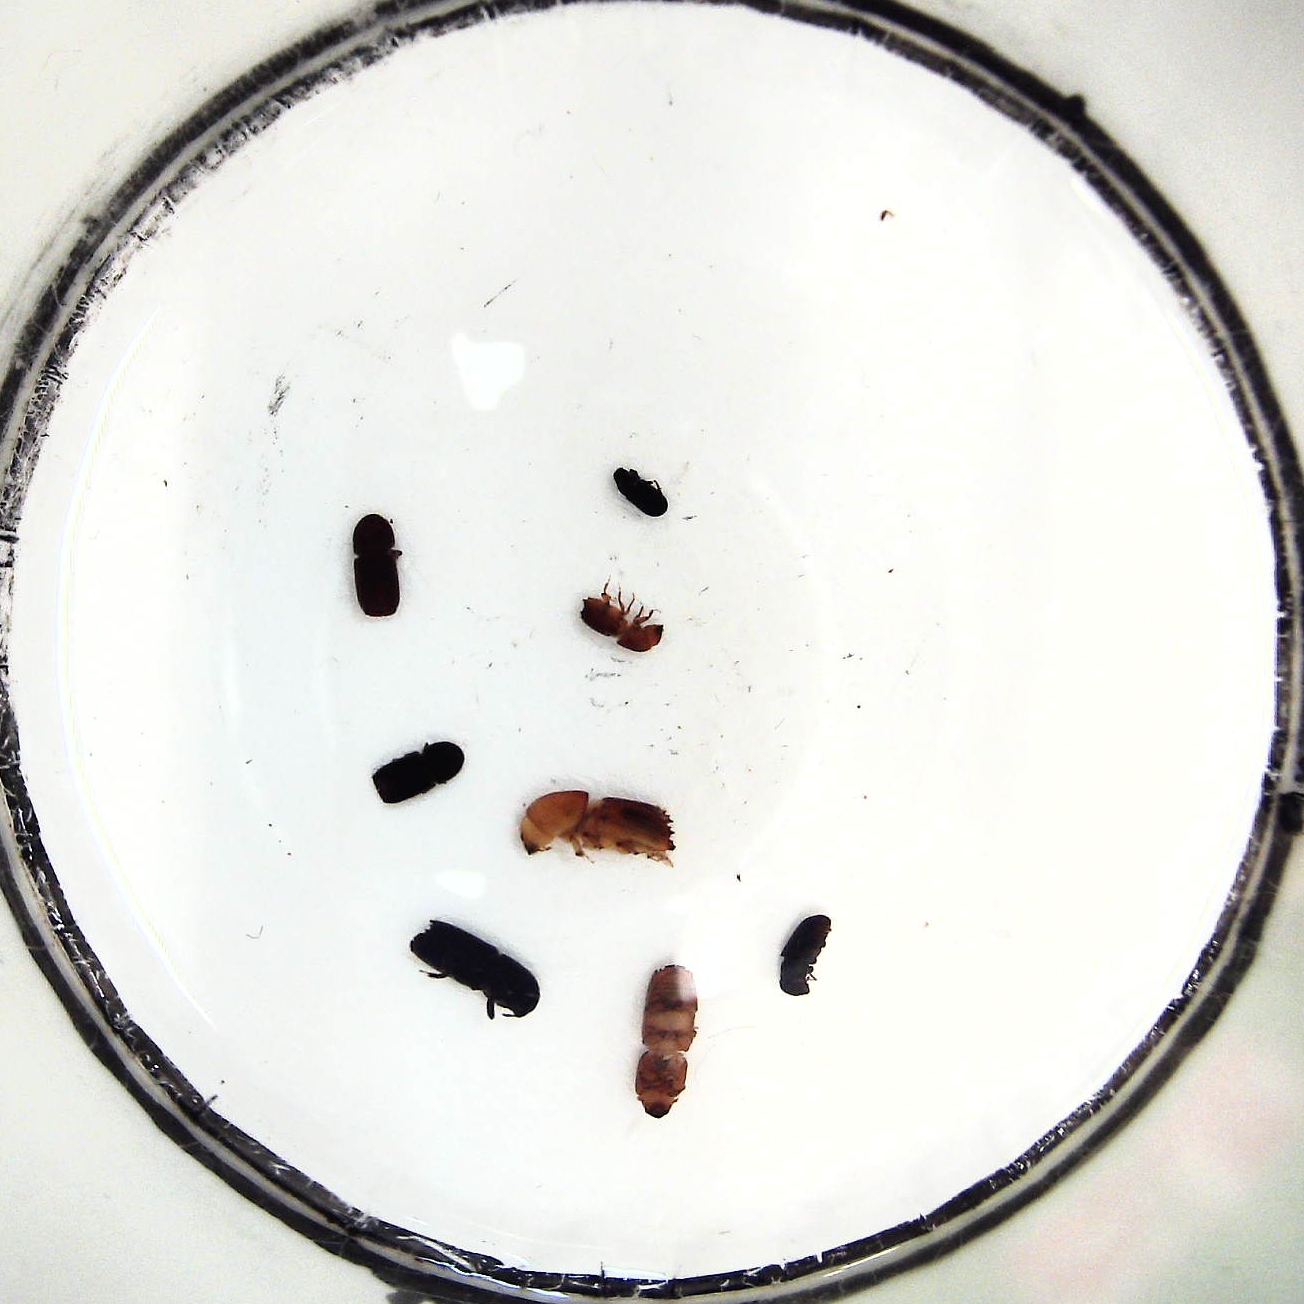Boerner: (408, 916, 541, 1027), (519, 788, 678, 873), (632, 960, 699, 1122)
Linnaeus: (342, 511, 404, 626), (370, 739, 465, 804)
armandi: (770, 911, 831, 999)
coleoptera: (609, 462, 673, 525)
